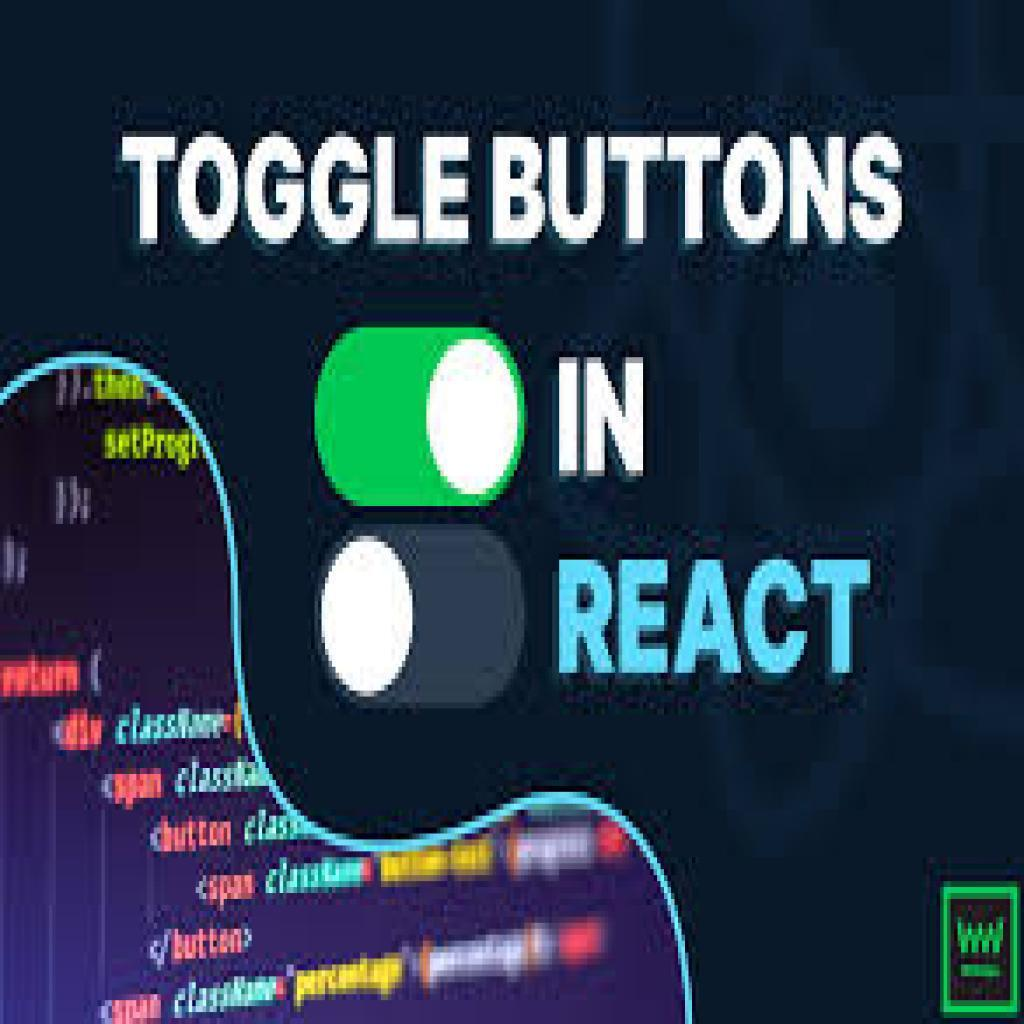switch: (314, 521, 532, 716), (314, 327, 531, 508)
